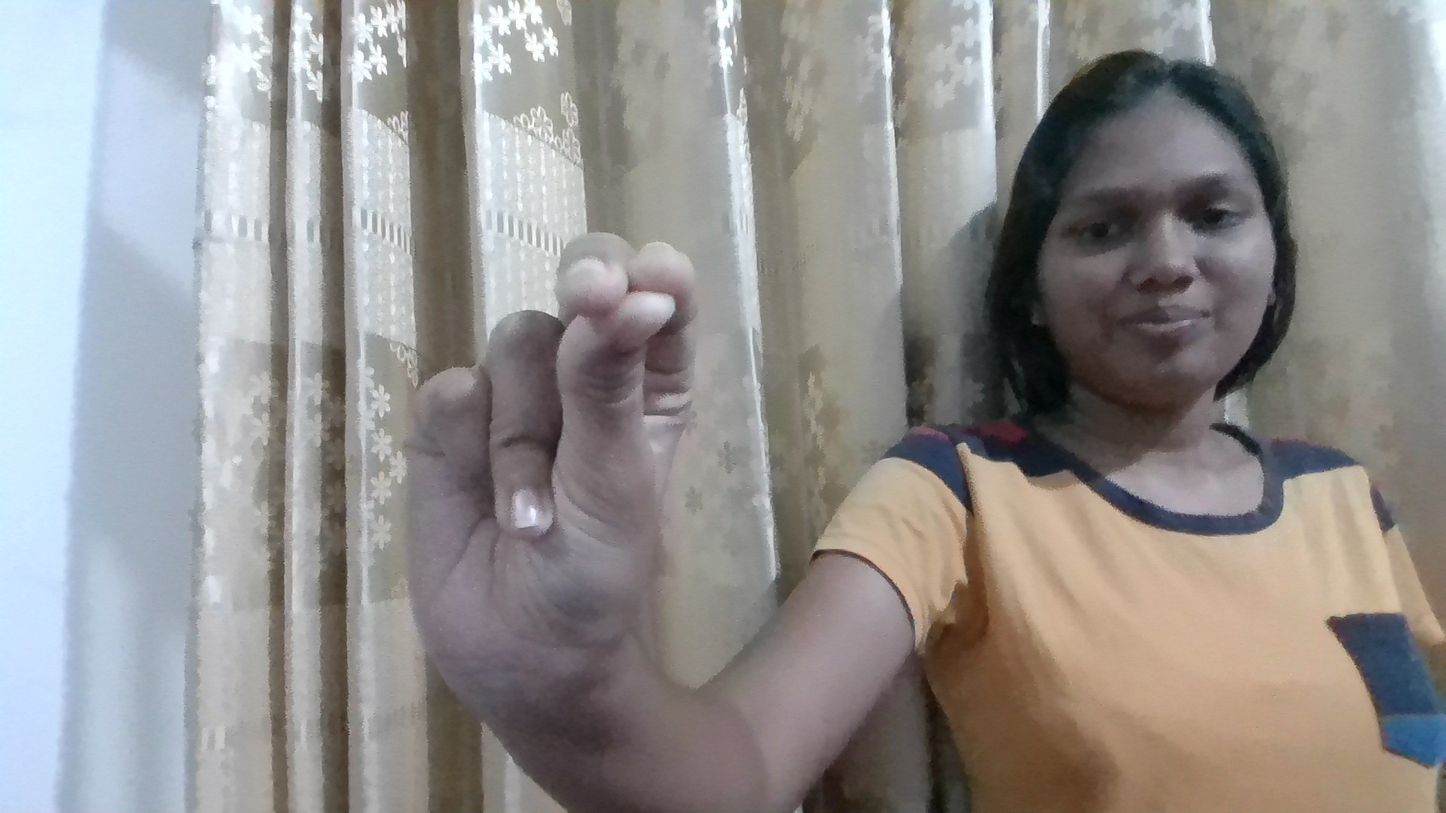No: (322, 185, 767, 669)
